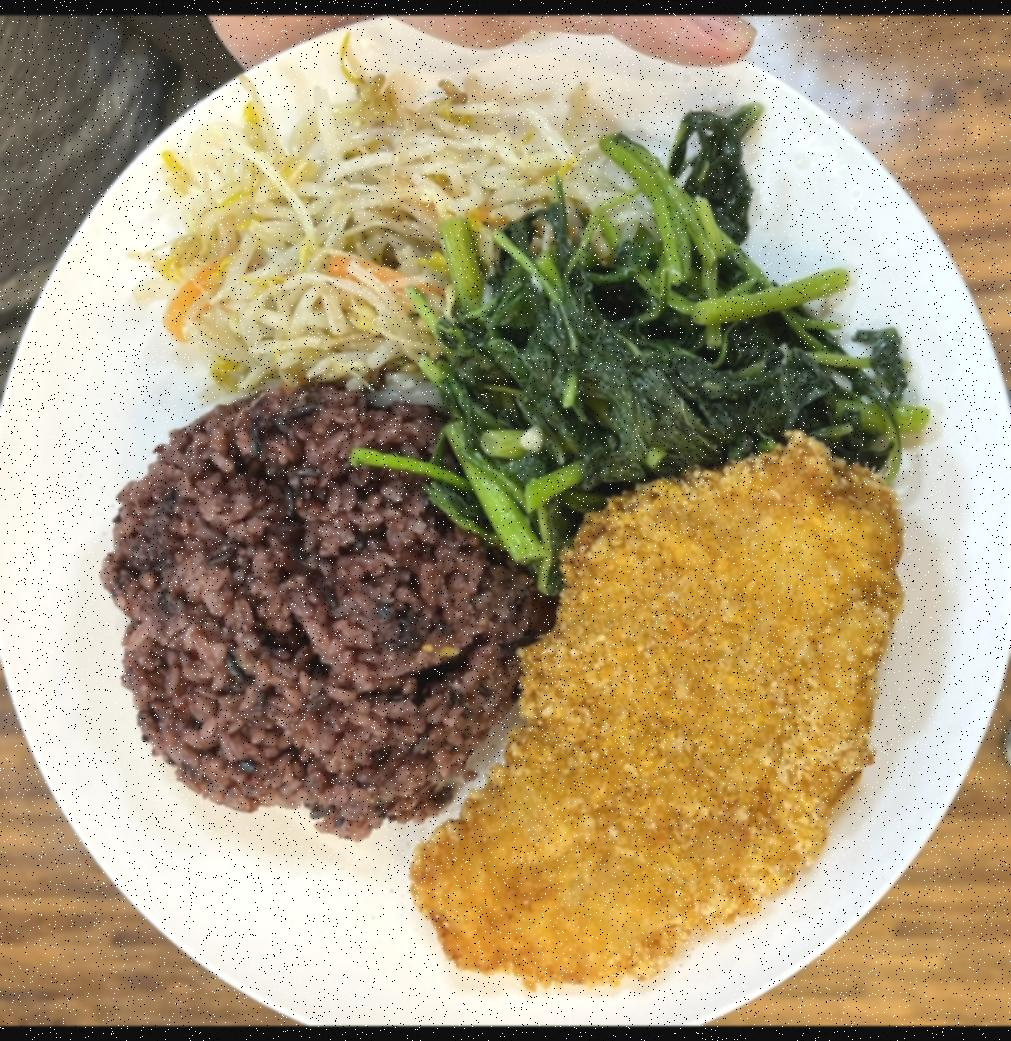chicken steak: (416, 442, 902, 990)
plate: (0, 15, 1011, 1023)
purple rice: (106, 399, 518, 824)
side dish: (408, 107, 907, 556), (133, 81, 575, 393)
